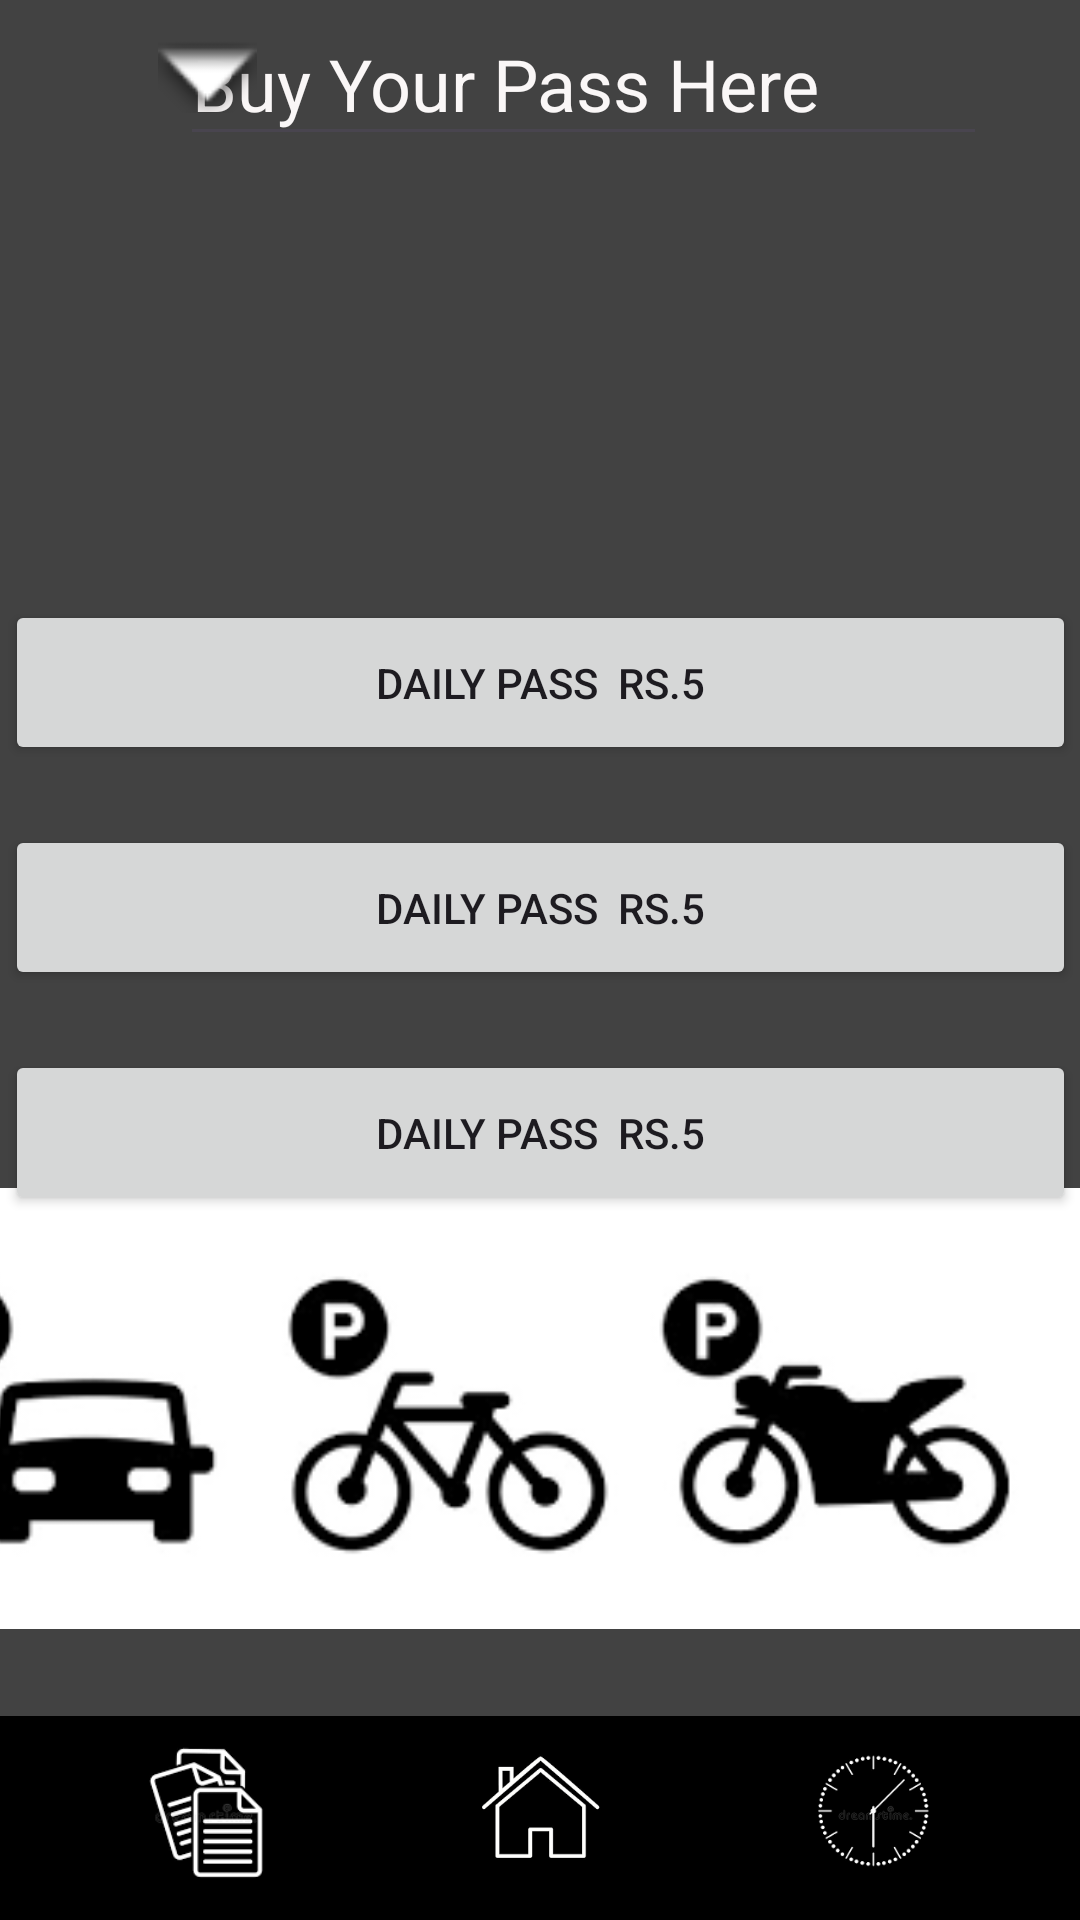

Icon click points for this 1080x1920 phone screenshot, format (x,y):
doc: (206,1813)
history: (873,1811)
home: (541,1807)
